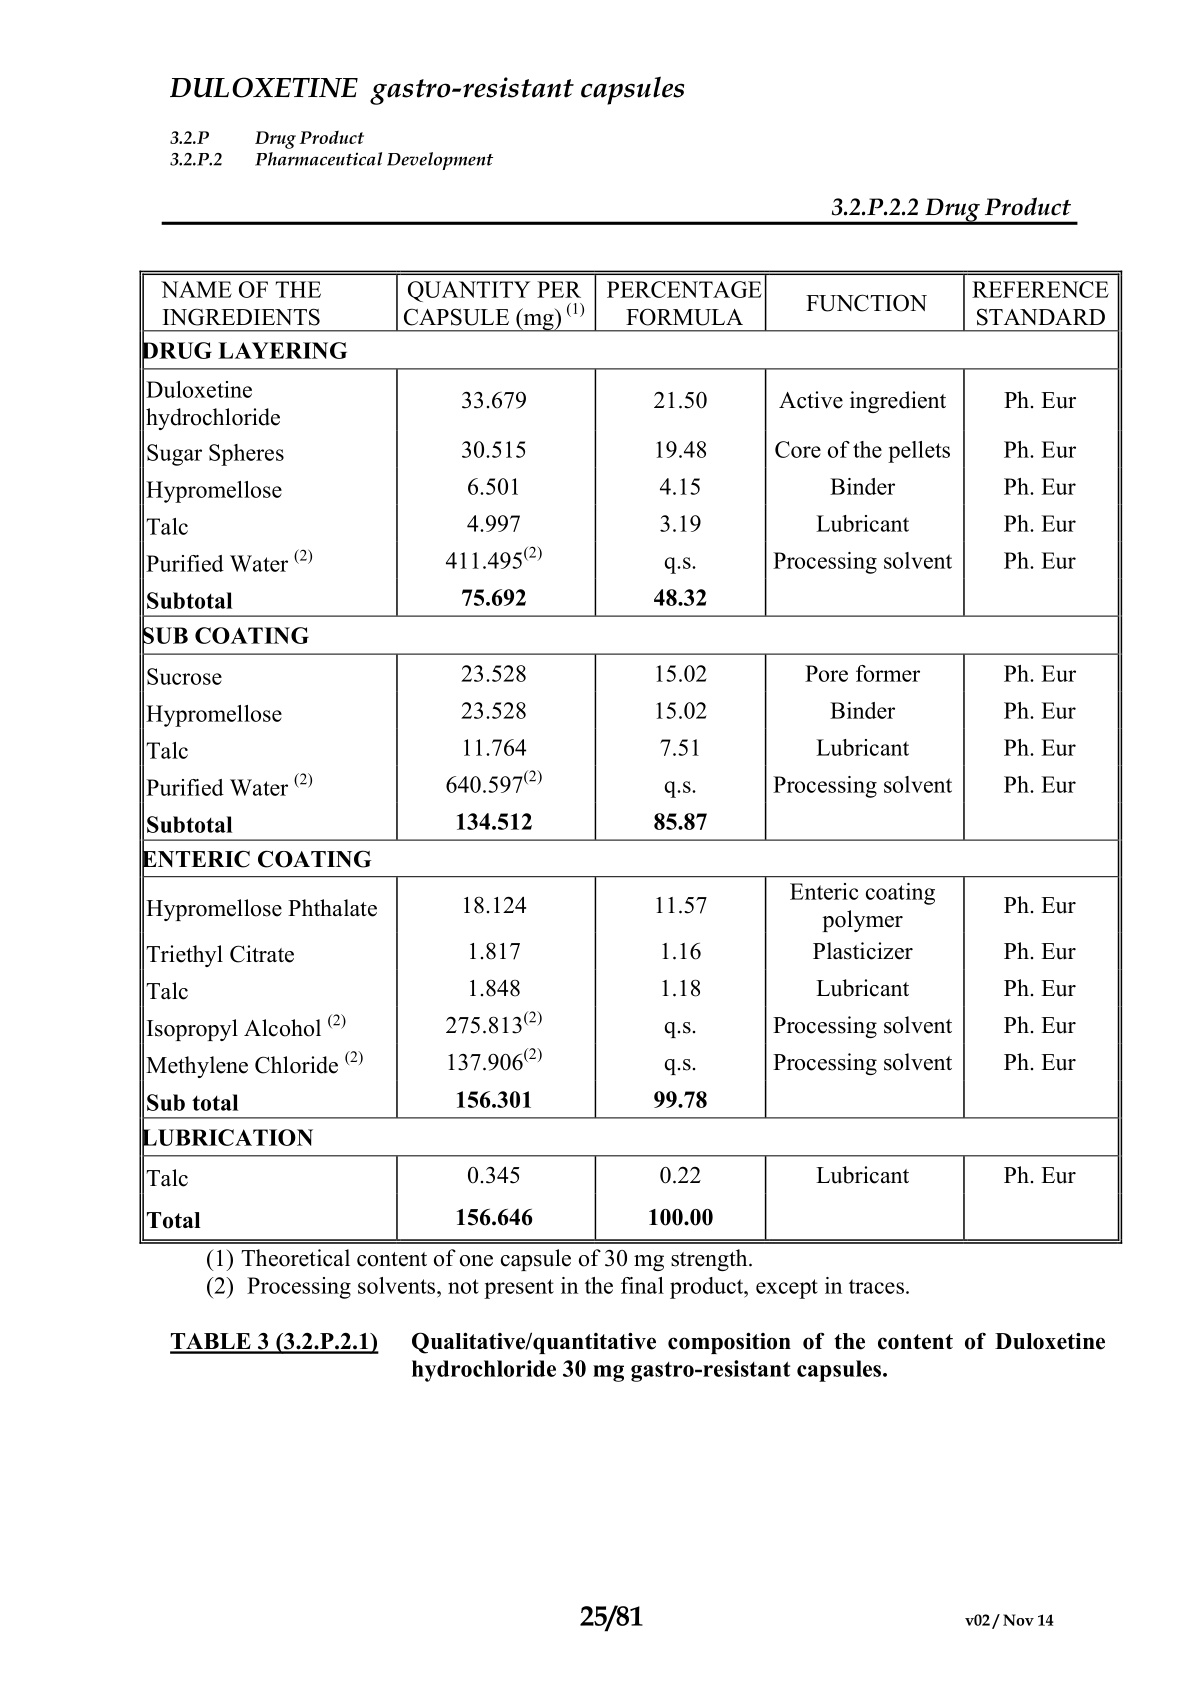merged_cells: (139, 271, 1121, 1245)
